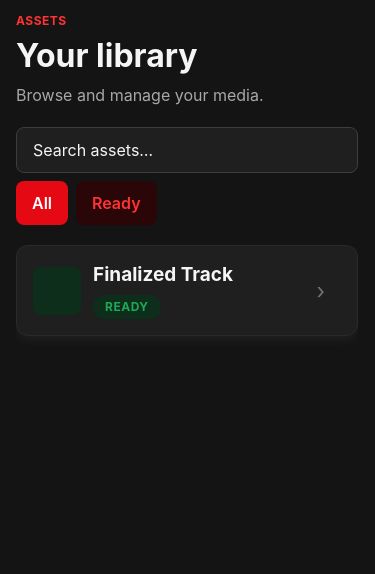
it: asset screens › T4: Library IA — search, filter, and zero-match states › EC-1: zero-match search shows no-results state, not empty-workspace state
Expected: the button with test id "asset-card-asset-fin" is shown, x1=16 y1=245 x2=358 y2=336
Type "xyznotfound" into the field with test id "asset-search" at x=187, y=150, box x1=16 y1=127 x2=358 y2=173
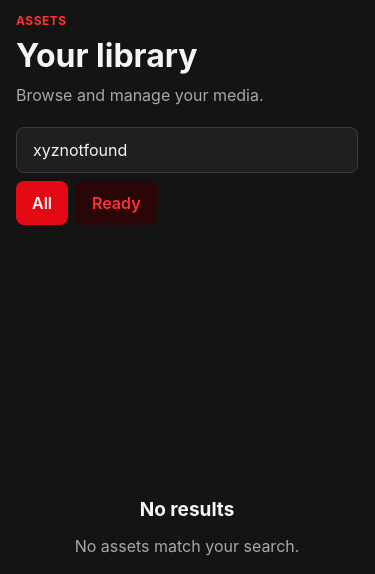
Expected: the element with test id "asset-list-no-results" is shown, x1=75 y1=498 x2=299 y2=556
Expected: the text "No assets match your search." is shown, x1=75 y1=534 x2=299 y2=558
